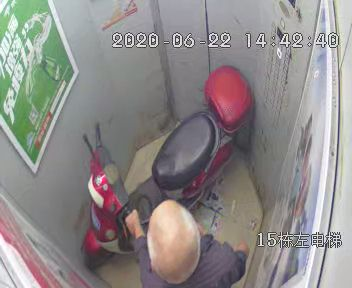Electric-bicycle: (80, 66, 247, 262)
